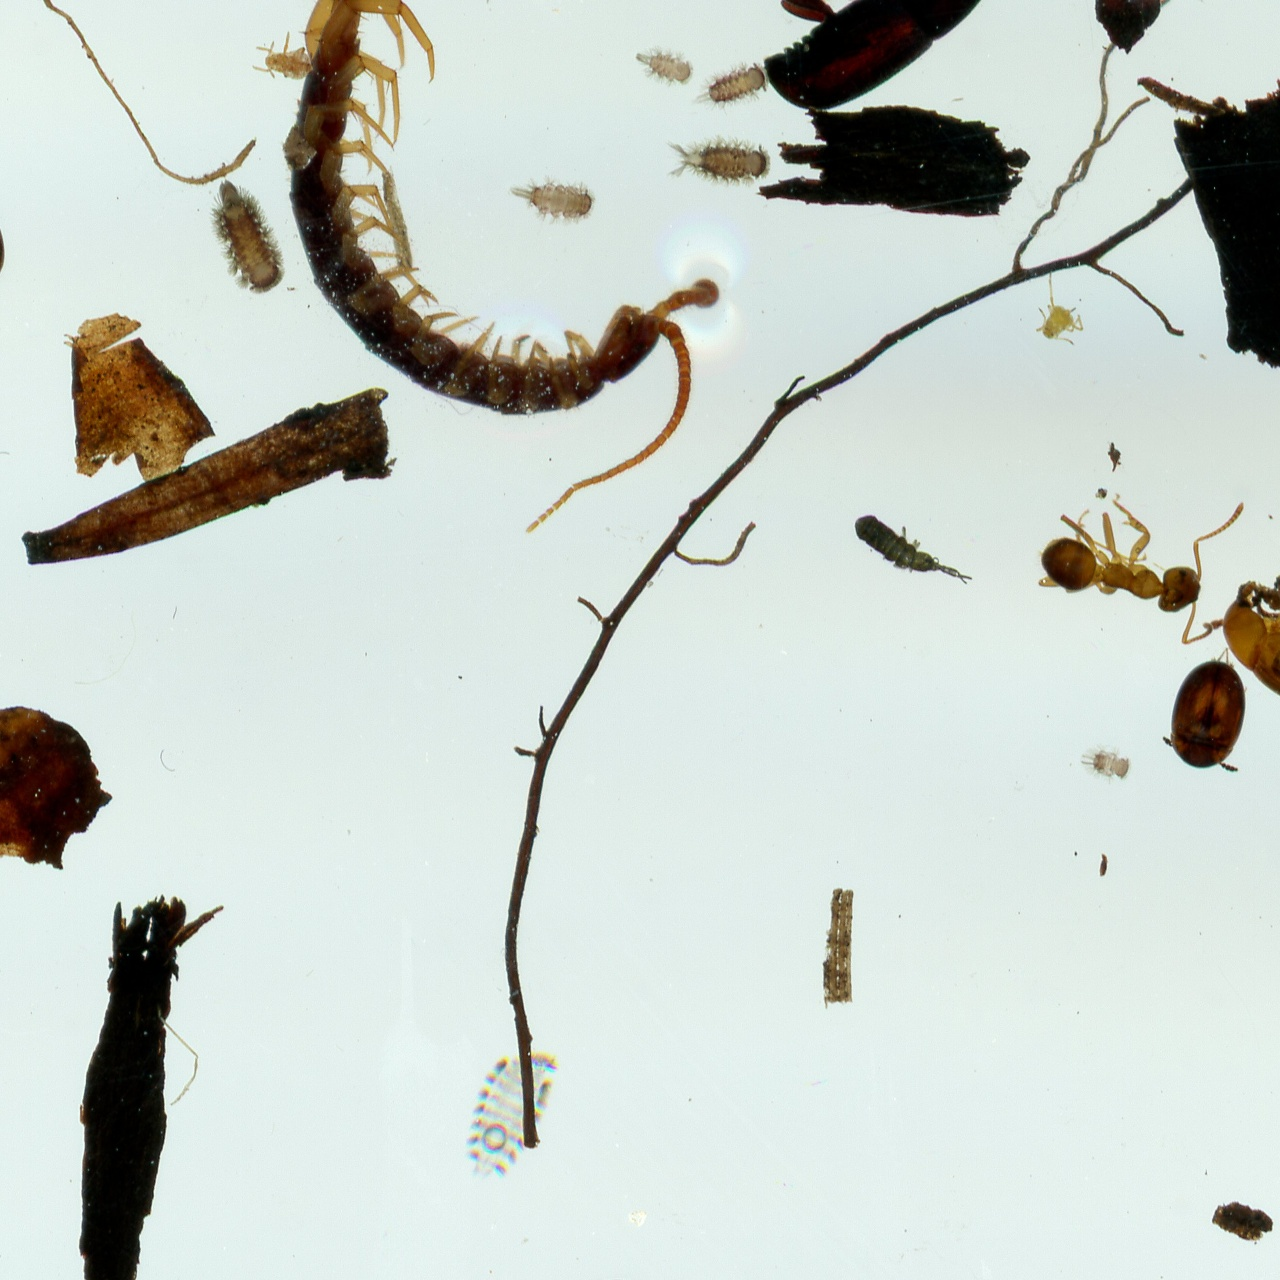arthropod: (302, 227, 709, 418), (1027, 496, 1248, 646), (774, 0, 982, 112), (852, 497, 978, 588), (1164, 655, 1244, 778), (1222, 568, 1280, 737), (201, 176, 283, 295), (656, 129, 768, 183), (504, 176, 603, 228), (1034, 276, 1085, 348), (627, 42, 697, 86), (701, 55, 753, 110), (1077, 743, 1127, 782)
